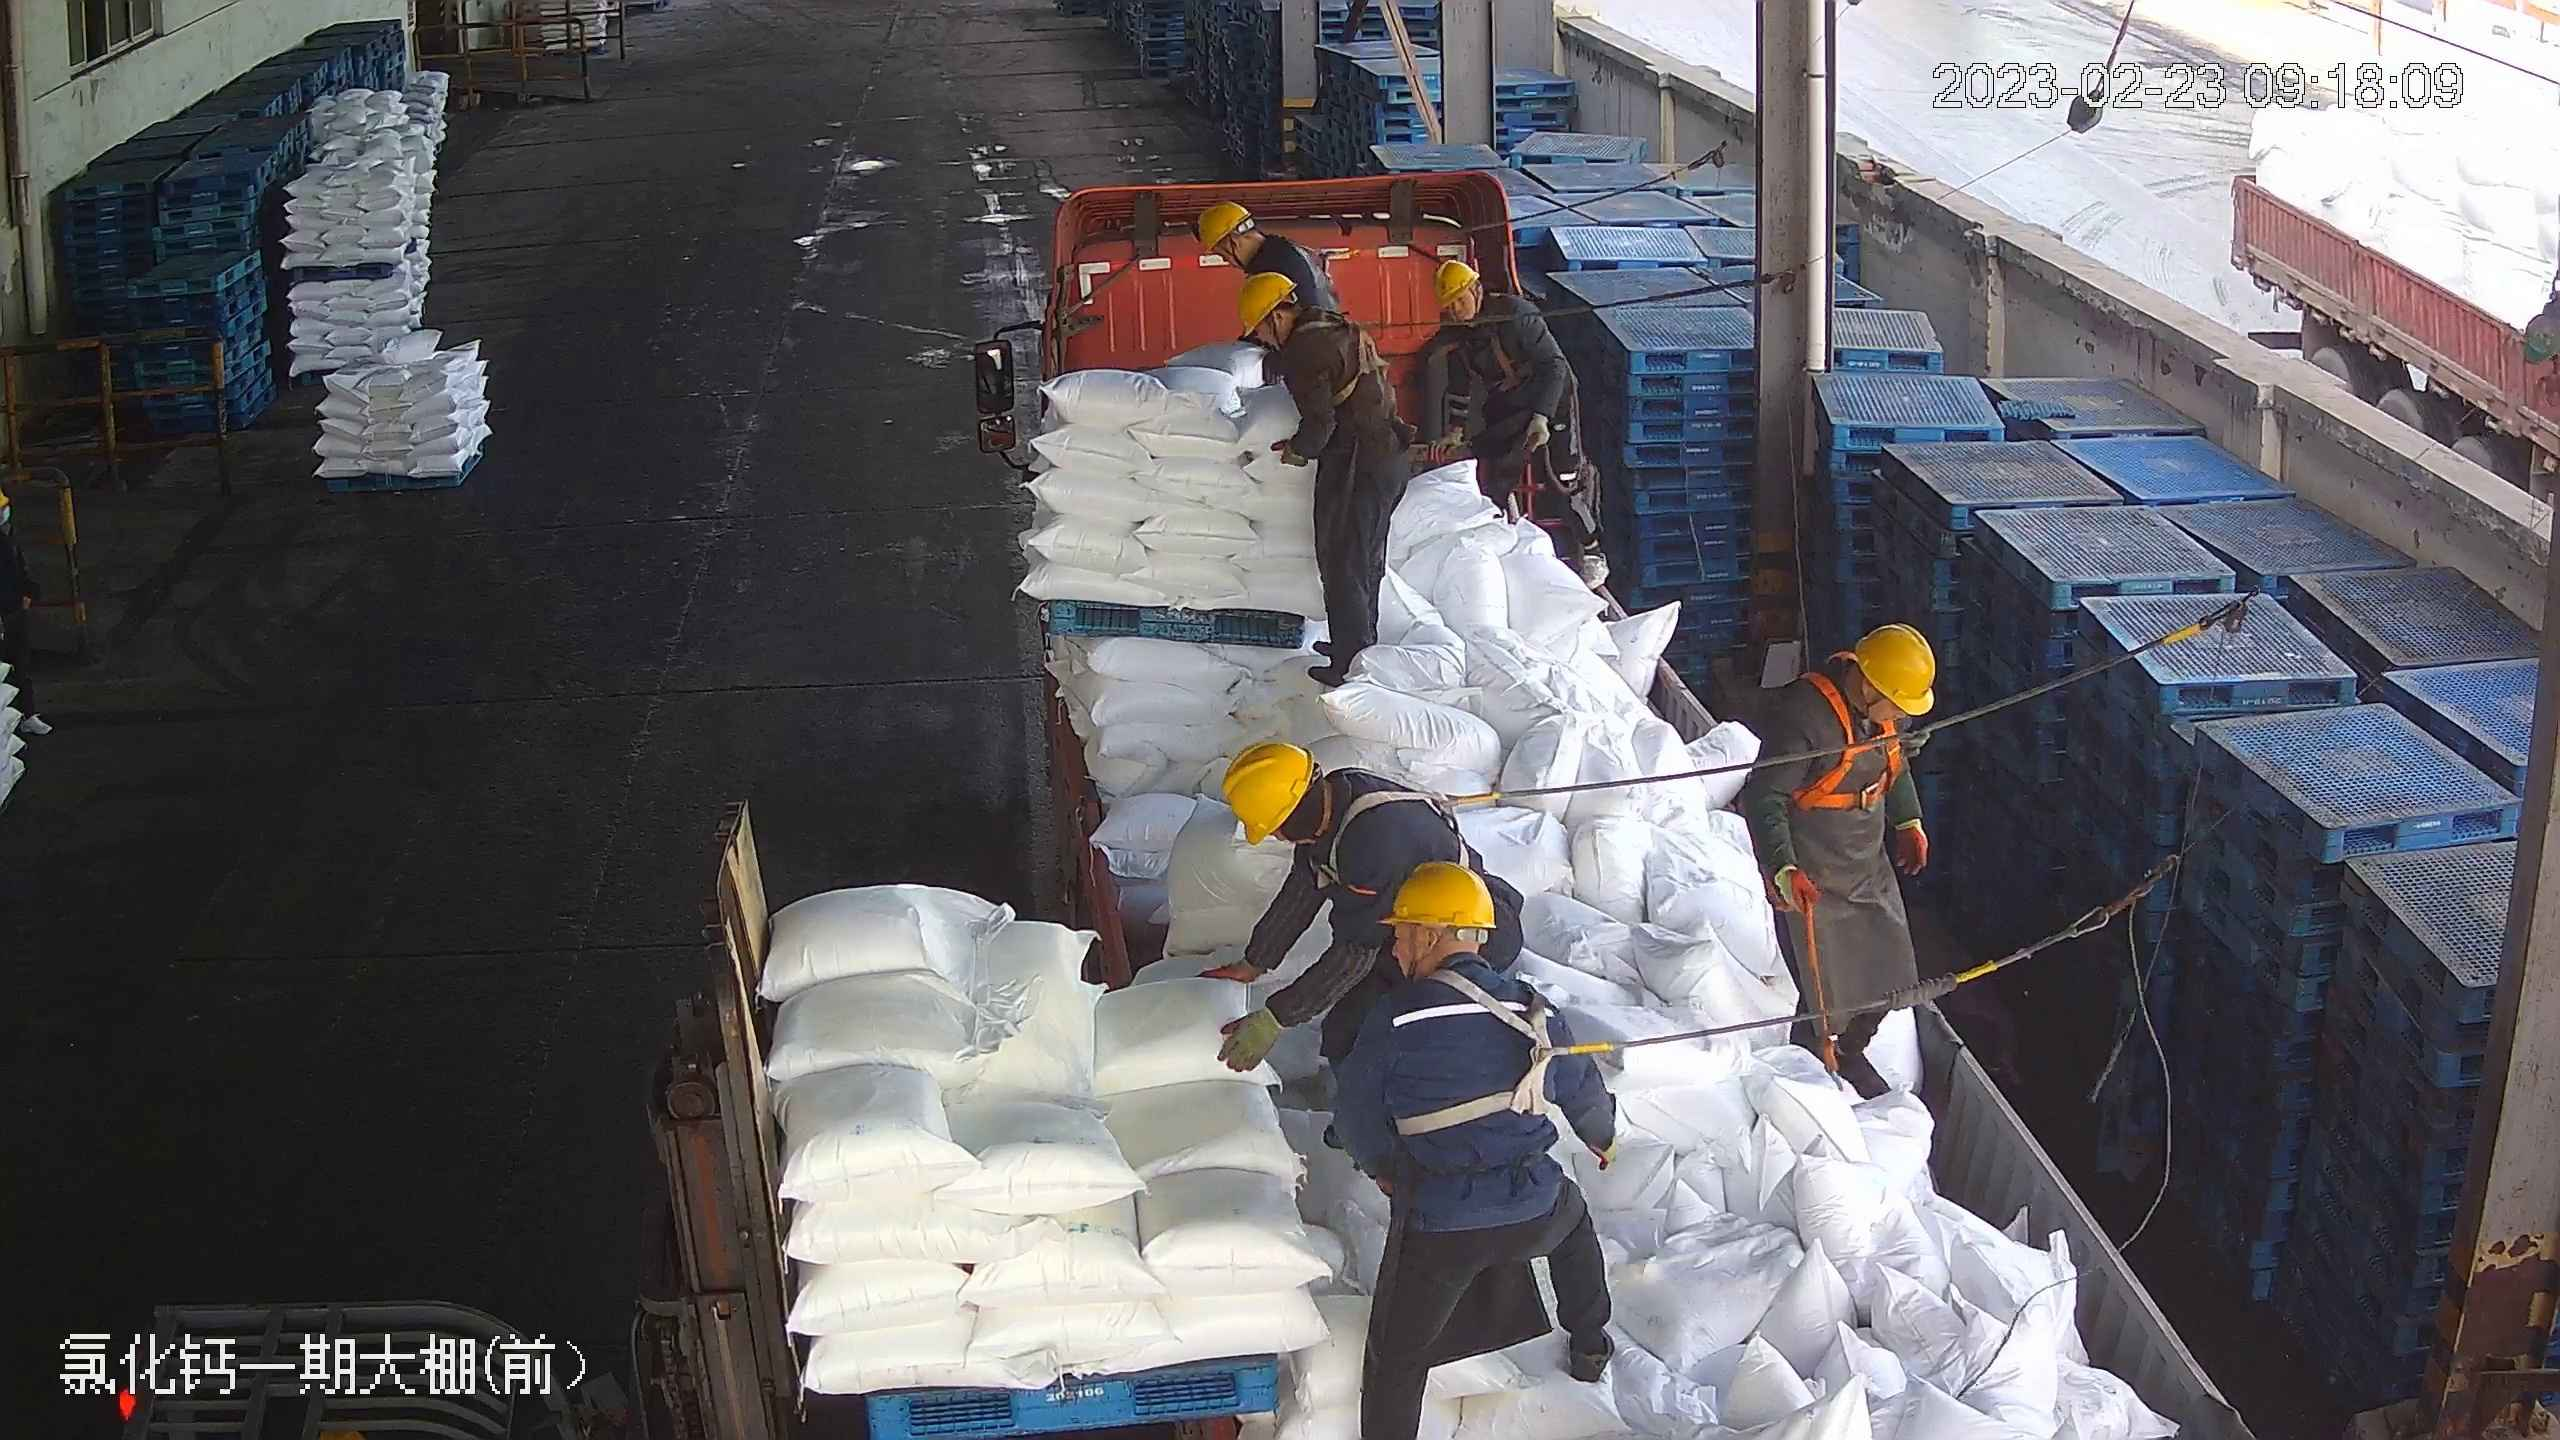belt: (1418, 975, 1612, 1141), (1322, 772, 1484, 905), (1798, 717, 1914, 826), (1292, 317, 1402, 410), (1460, 312, 1547, 396), (1290, 228, 1353, 292)
head: (1370, 860, 1552, 1051), (1224, 742, 1418, 885), (1774, 621, 1939, 764), (1230, 273, 1361, 380), (1425, 259, 1533, 360), (1200, 199, 1303, 289)
helmet: (1218, 739, 1315, 845), (1852, 620, 1942, 713), (1381, 860, 1496, 929), (1233, 272, 1297, 332), (1189, 197, 1250, 254), (1429, 258, 1481, 305)
people: (1343, 863, 1623, 1436), (1739, 627, 1937, 1117), (1229, 273, 1413, 686), (1411, 254, 1608, 582)
truck: (970, 158, 2264, 1439)
